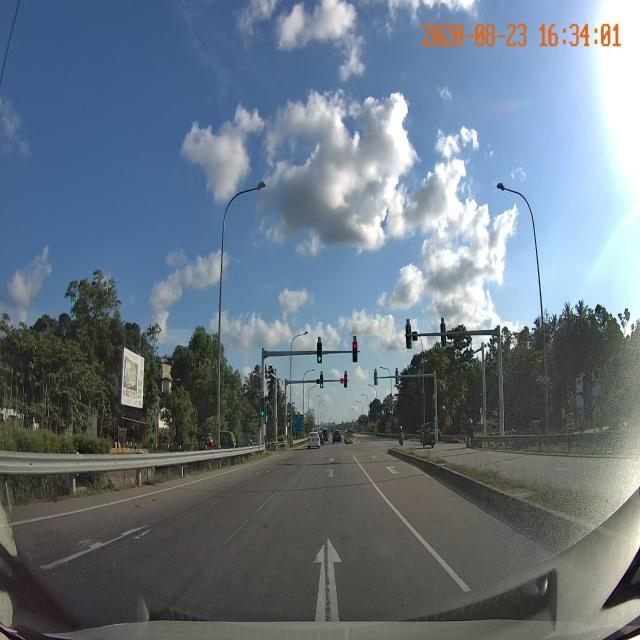forward: (151, 533, 495, 620)
